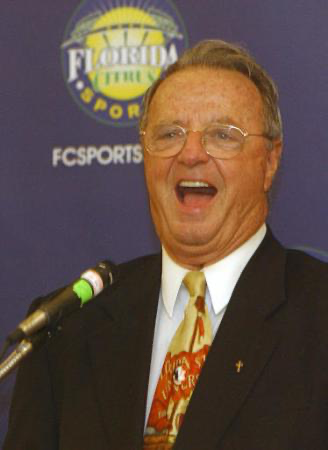Face: (138, 89, 276, 262)
